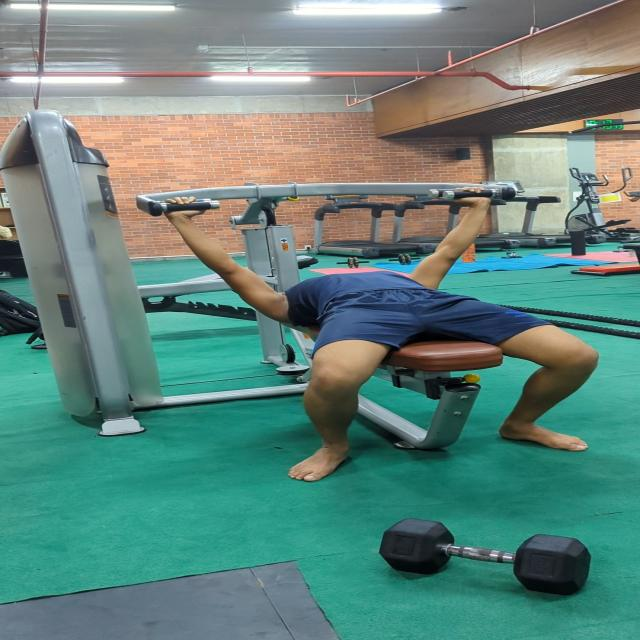Normal_BrenchPress: (138, 182, 640, 483)
